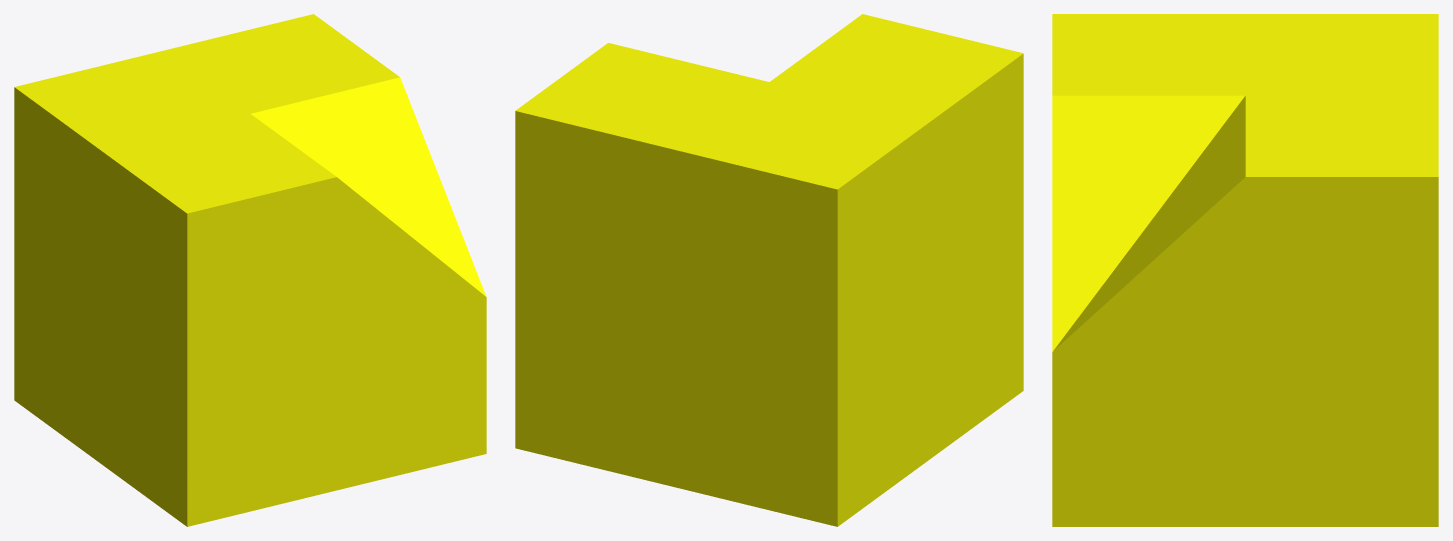
The model's file is kaykit-primitive-slope-half-innercorner.glb.
3 views of the same model, side by side, from view 1: azimuth 30°, elevation 25°; view 2: azimuth 150°, elevation 25°; view 3: azimuth 270°, elevation 25° (orthographic). The views are drawn at different scales.
Visible parts, largest first — view 1: Primitive_Slope_Half_InnerCorner; view 2: Primitive_Slope_Half_InnerCorner; view 3: Primitive_Slope_Half_InnerCorner.
Part boxes in pixels (<box>): Primitive_Slope_Half_InnerCorner: <box>14,14,486,526</box>; Primitive_Slope_Half_InnerCorner: <box>515,14,1023,526</box>; Primitive_Slope_Half_InnerCorner: <box>1052,14,1438,526</box>.
Size of the model in its own units: 4 by 4 by 4.
